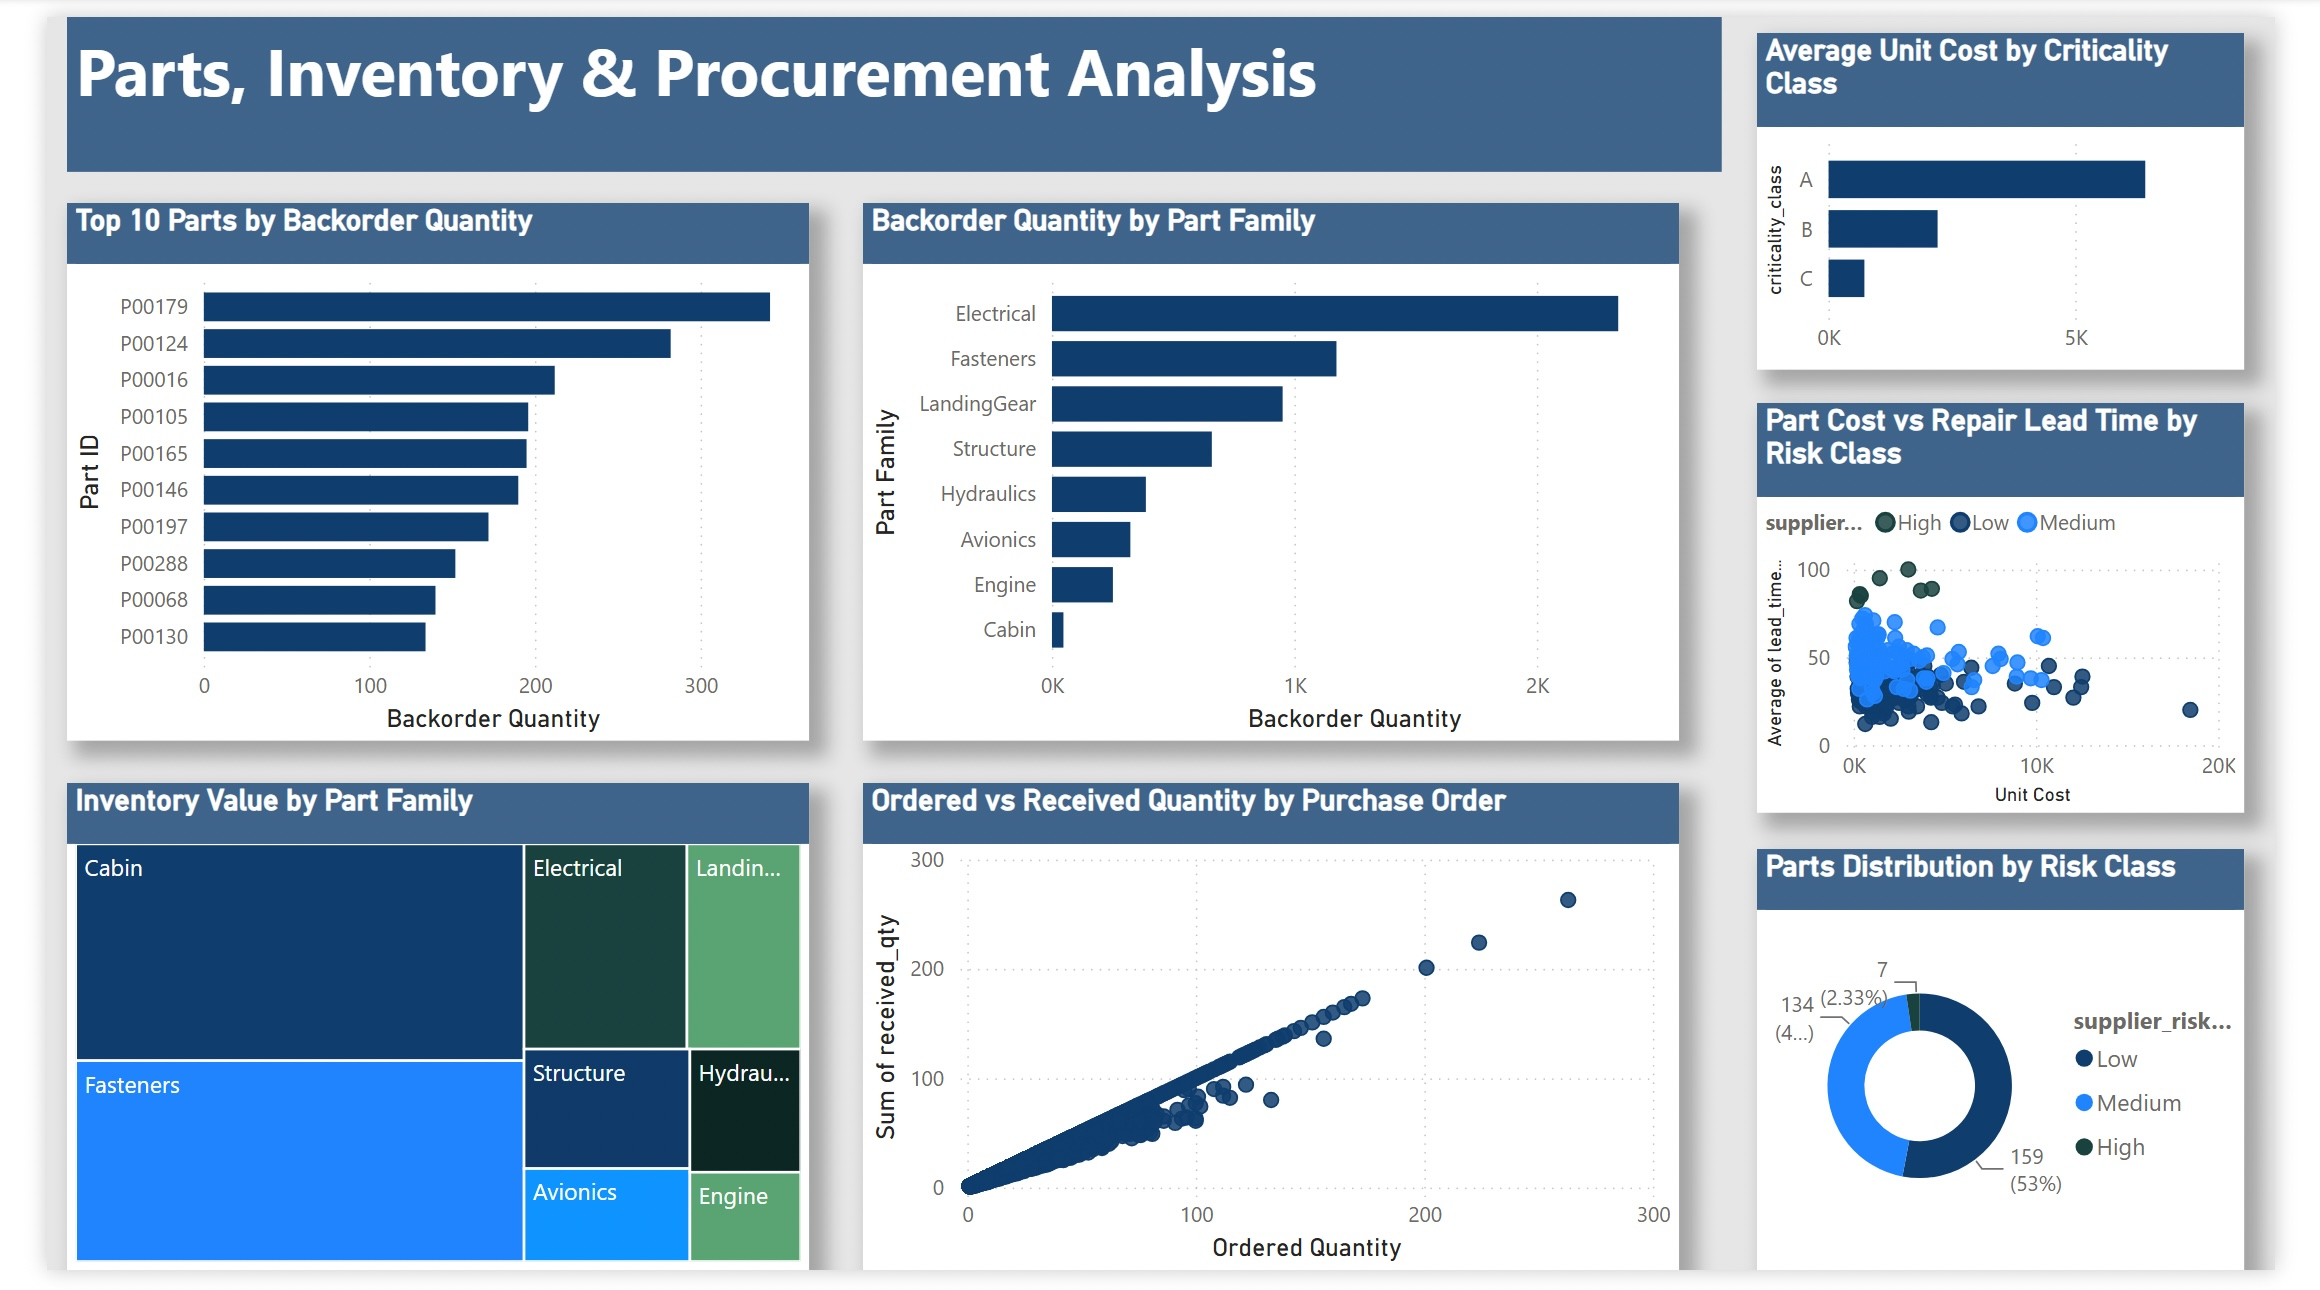

This screenshot's page, from the dashboard's own definition file:
{"tool":"powerbi","page":{"name":"Parts & Inventory","canvas":[1280,720],"ordinal":3},"visuals":[{"type":"clusteredBarChart","title":"Top 10 Parts by Backorder Quantity","fields":{"Category":["supply_chain_project supply_chain_history.part_id"],"Y":["Sum(supply_chain_project supply_chain_history.backorder_qty)"]},"box":[11.1,106.7,426.7,308.9],"z":0},{"type":"treemap","title":"Inventory Value by Part Family","fields":{"Group":["supply_chain_project parts_master.part_family"],"Values":["supply_chain_project supply_chain_history.Inventory Value"]},"box":[11.1,440,426.7,280],"z":1000},{"type":"scatterChart","title":"Ordered vs Received Quantity by Purchase Order","fields":{"X":["Sum(supply_chain_project purchase_orders.ordered_qty)"],"Y":["Sum(supply_chain_project purchase_orders.received_qty)"],"Category":["supply_chain_project purchase_orders.po_id"]},"box":[468.9,440,468.9,280],"z":2000},{"type":"scatterChart","title":"Part Cost vs Repair Lead Time by Risk Class","fields":{"X":["Sum(supply_chain_project parts_master.unit_cost)"],"Y":["Avg(supply_chain_project parts_master.lead_time_days)"],"Series":["supply_chain_project parts_master.supplier_risk_class"],"Category":["supply_chain_project parts_master.part_id"]},"box":[982.2,222.2,280,235.6],"z":3000},{"type":"donutChart","title":"Parts Distribution by Risk Class","fields":{"Category":["supply_chain_project parts_master.supplier_risk_class"],"Y":["CountNonNull(supply_chain_project parts_master.part_id)"]},"box":[982.2,477.8,280,242.2],"z":4000},{"type":"barChart","title":"Average Unit Cost by Criticality Class","fields":{"Category":["supply_chain_project parts_master.criticality_class"],"Y":["Avg(supply_chain_project parts_master.unit_cost)"]},"box":[982.2,8.9,280,193.3],"z":5000},{"type":"barChart","title":"Backorder Quantity by Part Family","fields":{"Category":["supply_chain_project parts_master.part_family"],"Y":["Sum(supply_chain_project supply_chain_history.backorder_qty)"]},"box":[468.9,106.7,468.9,308.9],"z":6000},{"type":"textbox","box":[11.1,0,951.1,88.9],"z":7000}]}

Visuals, with their boxes in screenshot pixels (x1, y1, x2, y2), scaled from the page's 1280x720 canvas onto the 2320x1290 screenshot:
"Top 10 Parts by Backorder Quantity" clusteredBarChart: <bbox>20, 191, 794, 745</bbox>
"Inventory Value by Part Family" treemap: <bbox>20, 788, 794, 1289</bbox>
"Ordered vs Received Quantity by Purchase Order" scatterChart: <bbox>850, 788, 1700, 1289</bbox>
"Part Cost vs Repair Lead Time by Risk Class" scatterChart: <bbox>1780, 398, 2288, 820</bbox>
"Parts Distribution by Risk Class" donutChart: <bbox>1780, 856, 2288, 1289</bbox>
"Average Unit Cost by Criticality Class" barChart: <bbox>1780, 16, 2288, 362</bbox>
"Backorder Quantity by Part Family" barChart: <bbox>850, 191, 1700, 745</bbox>
textbox: <bbox>20, 0, 1744, 159</bbox>
